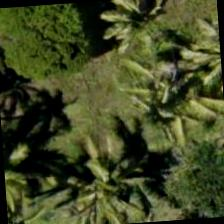Kelapa_Sawit: (106, 44, 202, 140), (87, 0, 183, 70)
